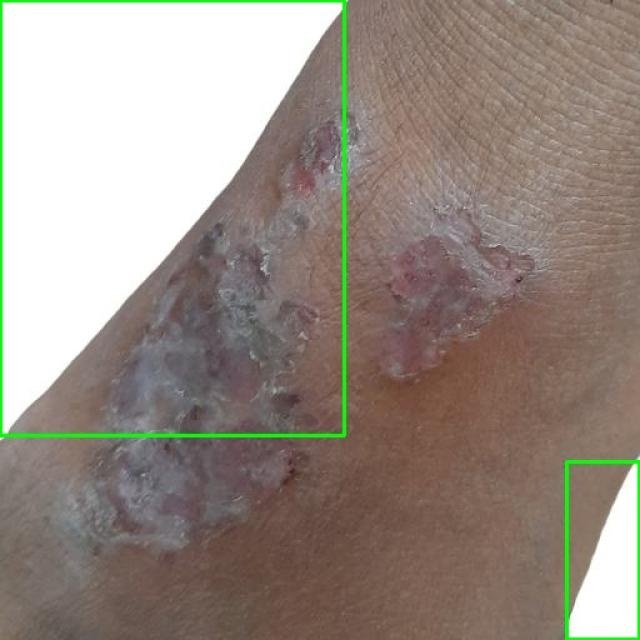Contact Dermatitis: (0, 0, 344, 435), (566, 461, 639, 639)
